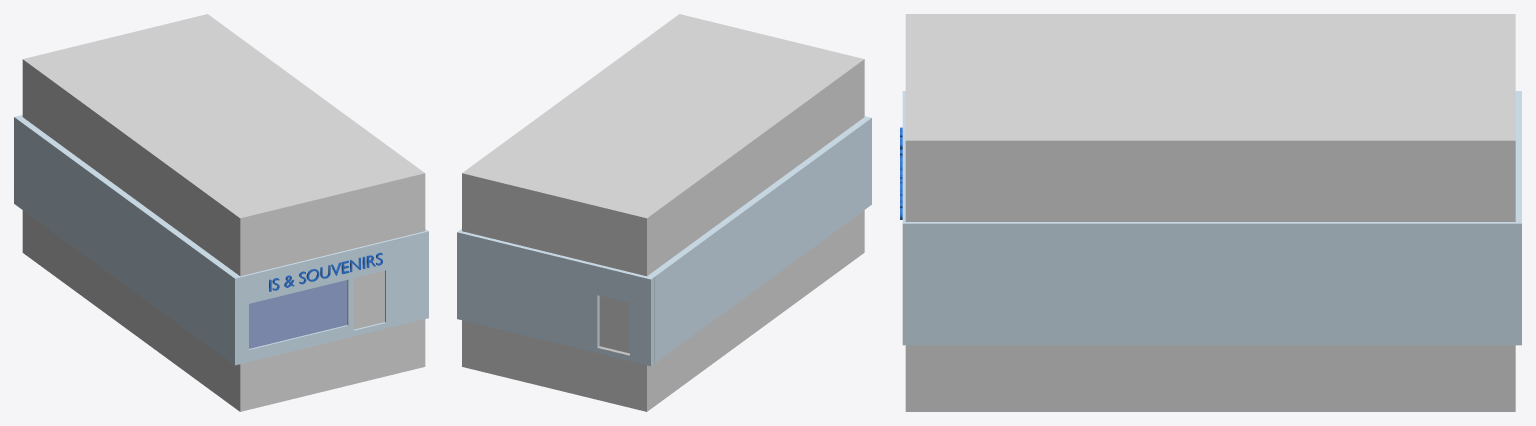
The model's file is room.glb.
3 renders of one model, left to right at view 1: azimuth 30°, elevation 25°; view 2: azimuth 150°, elevation 25°; view 3: azimuth 270°, elevation 25°, orthographic. The views are drawn at different scales.
Visible parts, largest first — view 1: boundingbox, Cube.001, Cube.006, Cube.005, Text, Cube.009; view 2: boundingbox, Cube.001, Cube.009, Cube.006; view 3: boundingbox, Cube.002, Cube.006, Cube.009.
Part boxes in pixels (x1,y1,x2,y2): boundingbox: (22,14,425,411); Cube.001: (18,119,235,361); Cube.006: (230,229,428,365); Cube.005: (249,280,347,348); Text: (269,252,382,291); Cube.009: (14,115,24,206); boundingbox: (462,14,864,411); Cube.001: (649,120,866,363); Cube.009: (457,229,654,366); Cube.006: (861,116,871,207); boundingbox: (905,14,1515,411); Cube.002: (916,222,1510,345); Cube.006: (902,91,916,345); Cube.009: (1508,91,1521,345).
Size of the model in its own units: 11.93 by 11.38 by 23.64.
